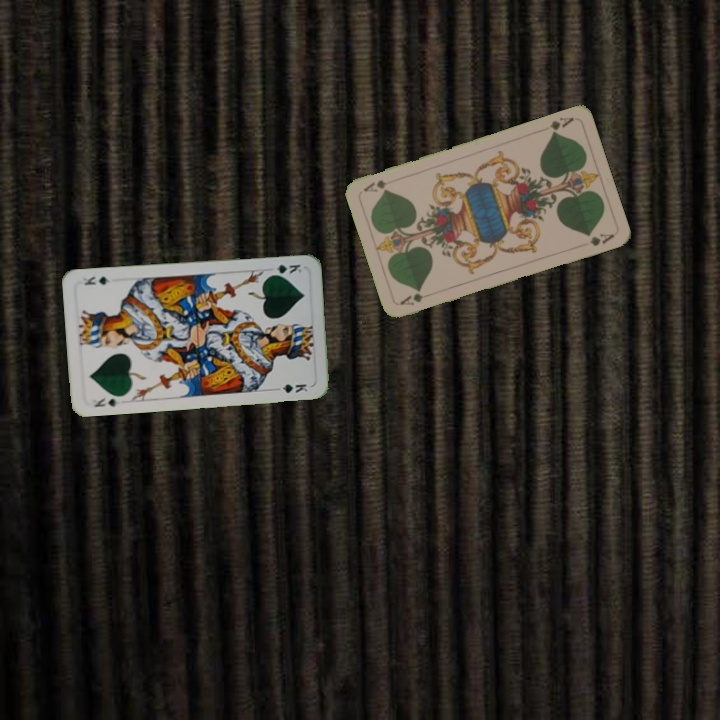GA: (546, 113, 577, 137), (396, 289, 426, 308)
GK: (265, 260, 304, 278), (90, 393, 122, 410)
